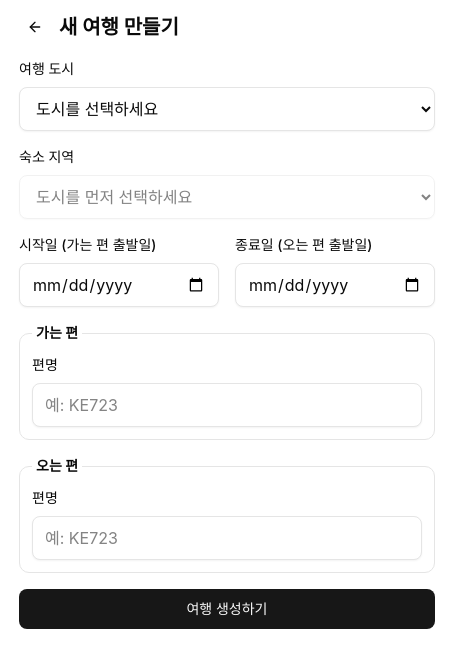
TripCreatePage › creates a trip, stores the owner token and navigates to the detail
Select "오사카" in the dropdown labelled "여행 도시" at [227, 109], box [19,87,435,131]
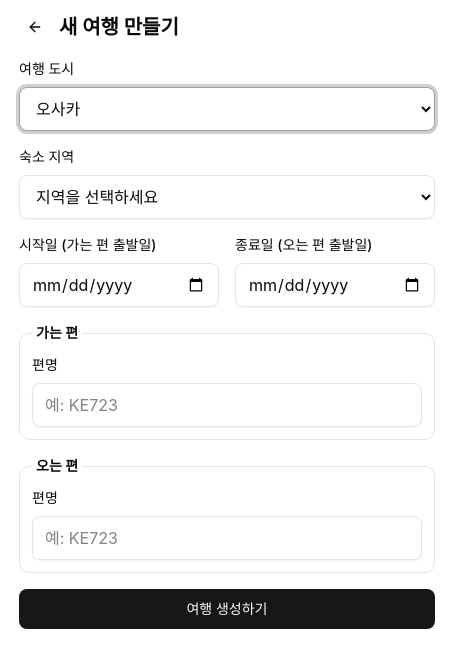
Now the dropdown labelled "숙소 지역" is enabled
Select "난바" in the dropdown labelled "숙소 지역" at [227, 197], box [19,175,435,219]
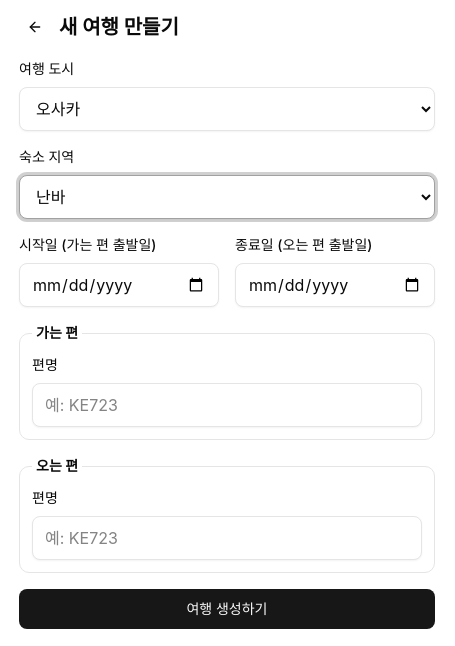
Type "2026-11-05" into the date field labelled "시작일 (가는 편 출발일)".
click(119, 285); type("2026-11-05")  # box [19,263,219,307]
Type "2026-11-08" into the date field labelled "종료일 (오는 편 출발일)".
click(335, 285); type("2026-11-08")  # box [235,263,435,307]
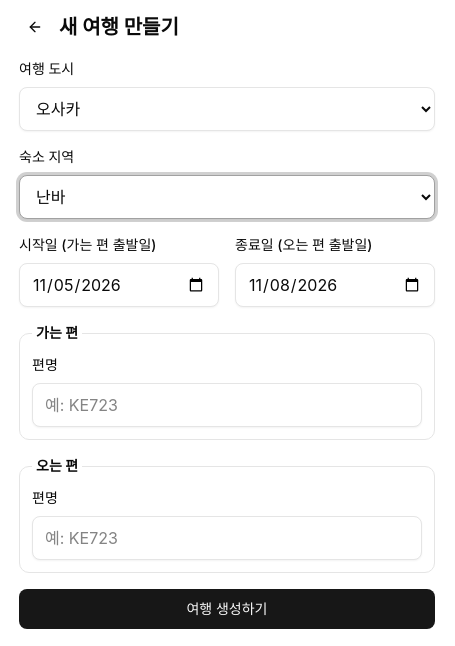
Type "KE723" into the 1st field labelled "편명".
click(227, 405); type("KE723")  # box [32,383,422,427]
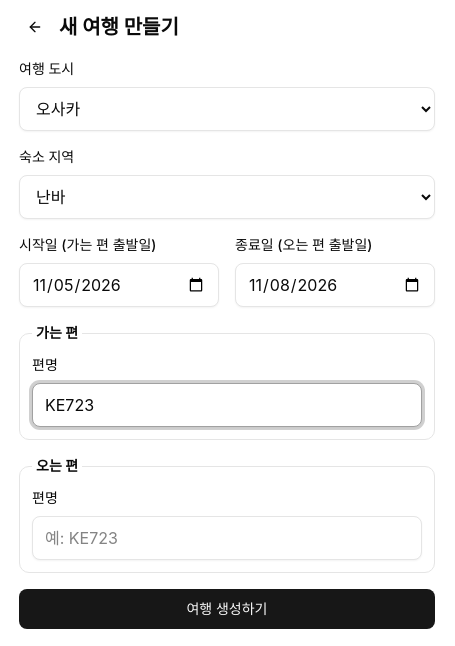
Type "KE724" into the 2nd field labelled "편명".
click(227, 538); type("KE724")  # box [32,516,422,560]
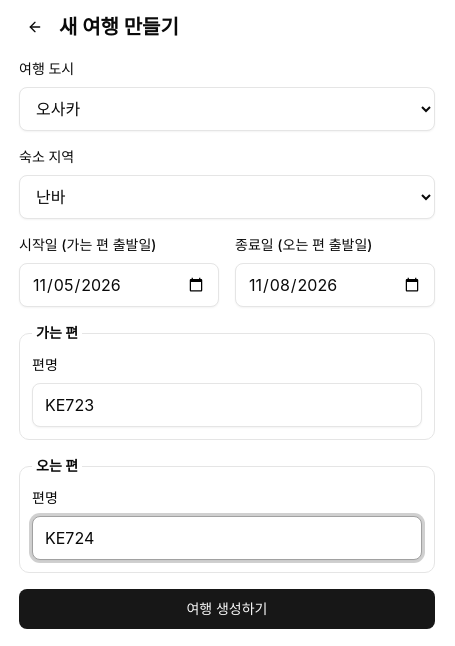
Click the button "여행 생성하기".
click(227, 609)  # box [19,589,435,629]
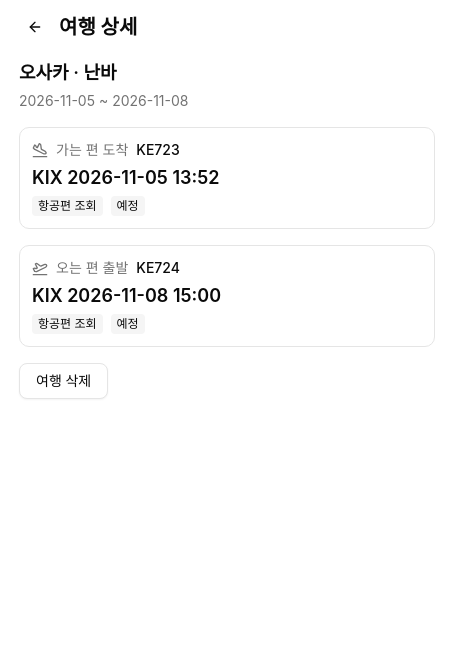
Now the heading "오사카 · 난바" is shown, box [19,62,117,83]
